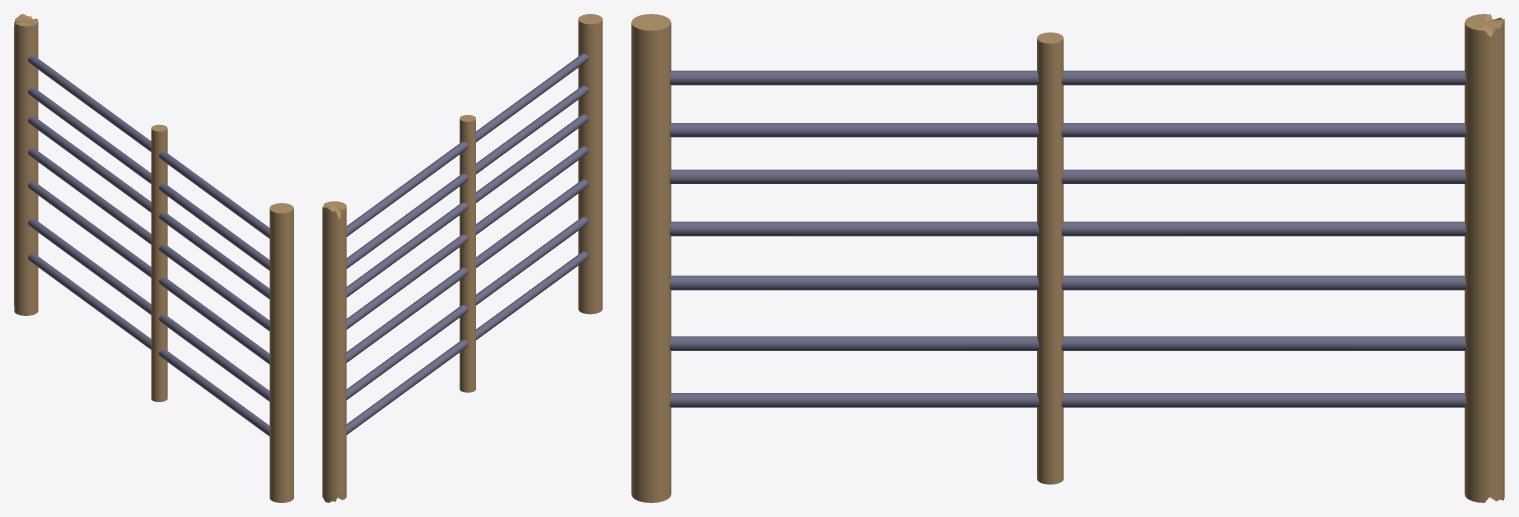
File: metal fence.fbx
3 renders of one model, left to right at view 1: azimuth 30°, elevation 25°; view 2: azimuth 150°, elevation 25°; view 3: azimuth 270°, elevation 25°, orthographic. The views are drawn at different scales.
Parts seen in each view (by area): view 1: polySurface2; view 2: polySurface2; view 3: polySurface2.
Boxes of the visible parts, x1,y1,x2,y2 form: polySurface2: (14, 14, 293, 502); polySurface2: (322, 14, 602, 502); polySurface2: (631, 14, 1504, 502).
Bounding box in the file's own units: 0.3731 × 4.96 × 8.19.
